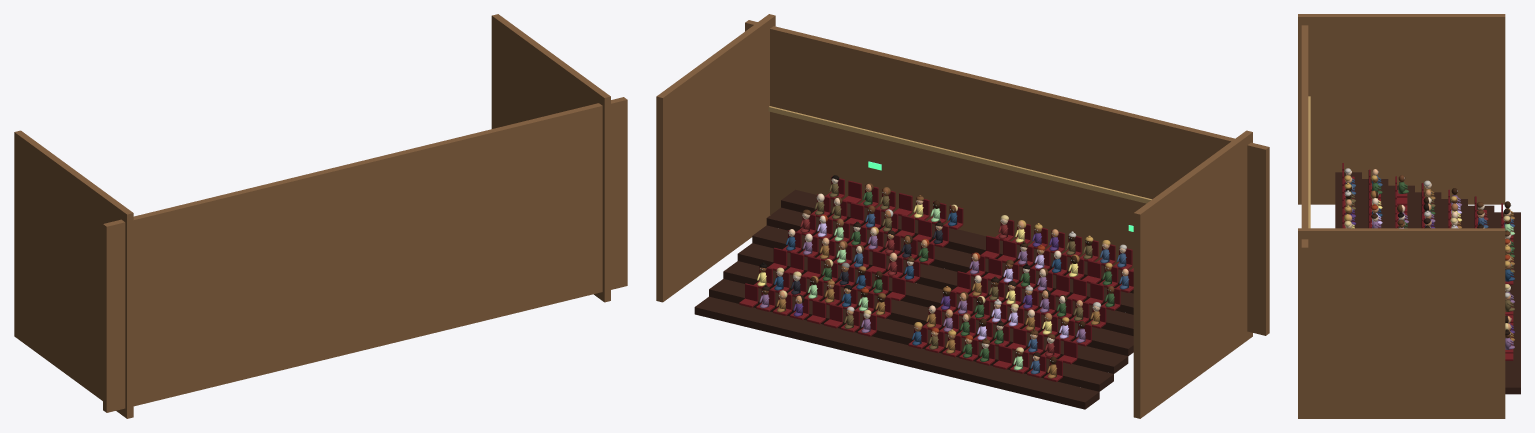
File: audience.glb
3 views of the same model, side by side, from view 1: azimuth 30°, elevation 25°; view 2: azimuth 150°, elevation 25°; view 3: azimuth 270°, elevation 25° (orthographic). The views are drawn at different scales.
Visible parts, largest first — view 1: audience_wall; view 2: audience_wall, audience_row0, audience_row1, audience_row2, audience_row3, audience_row4, audience_row5, audience_row6; view 3: audience_wall, audience_row0, audience_row6, audience_row5, audience_row4, audience_row3, audience_row2, audience_row1.
Part boxes in pixels (x1,y1,x2,y2): audience_wall: (14,14,627,418); audience_wall: (656,14,1269,418); audience_row0: (694,283,1099,409); audience_row1: (709,262,1113,391); audience_row2: (723,247,1128,373); audience_row3: (737,229,1133,356); audience_row4: (752,209,1133,335); audience_row5: (766,193,1133,314); audience_row6: (781,175,1133,293); audience_wall: (1298,14,1505,418); audience_row0: (1494,201,1520,394); audience_row6: (1335,163,1361,228); audience_row5: (1362,169,1388,228); audience_row4: (1388,175,1414,228); audience_row3: (1415,180,1441,228); audience_row2: (1441,188,1467,228); audience_row1: (1468,196,1494,228).
Bounding box in the file's own units: 24 × 9 × 9.68.
